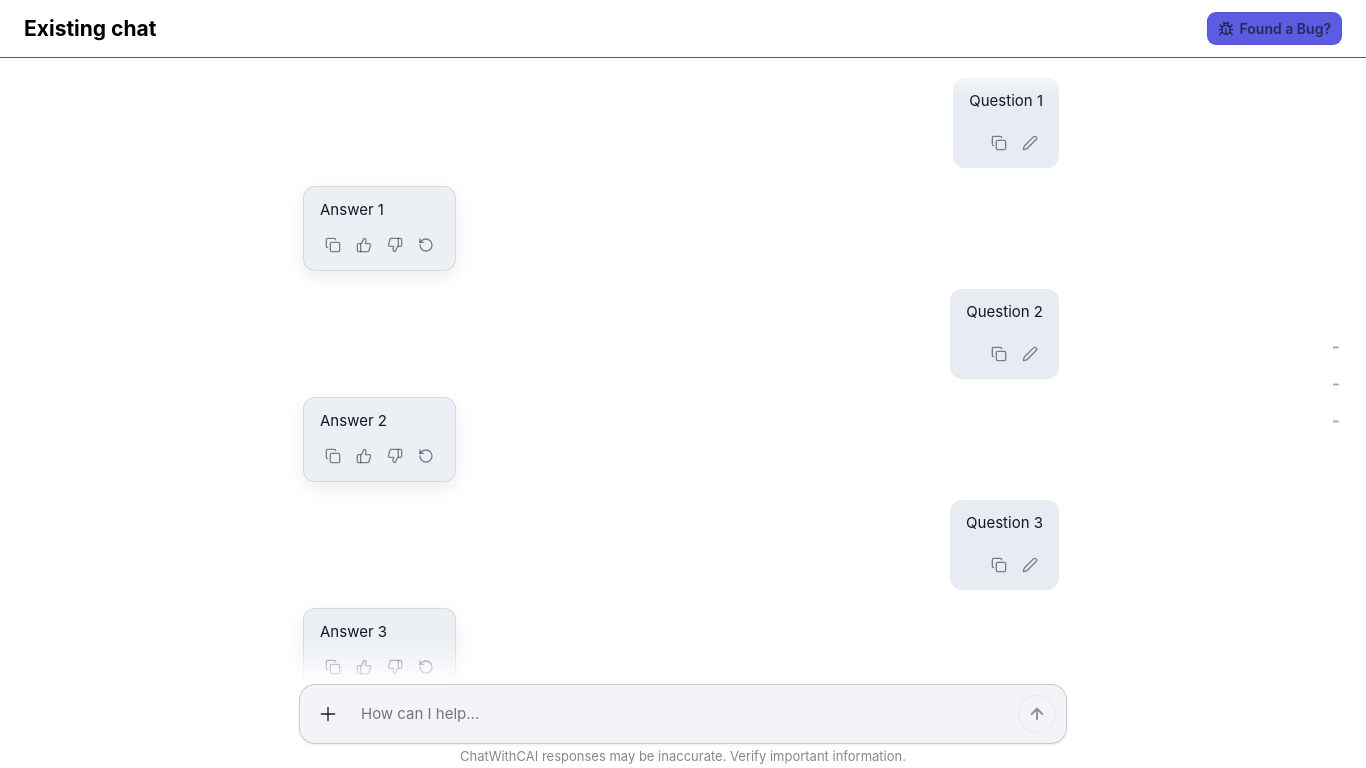
chat message sending › rewinds later turns when regenerating and continues from the regenerated reply
Expected: the text "Answer 3" is shown, [320, 622, 387, 640]
Click the button named "Try again..." below "Answer 2".
click(426, 456)  # box [413, 443, 439, 469]
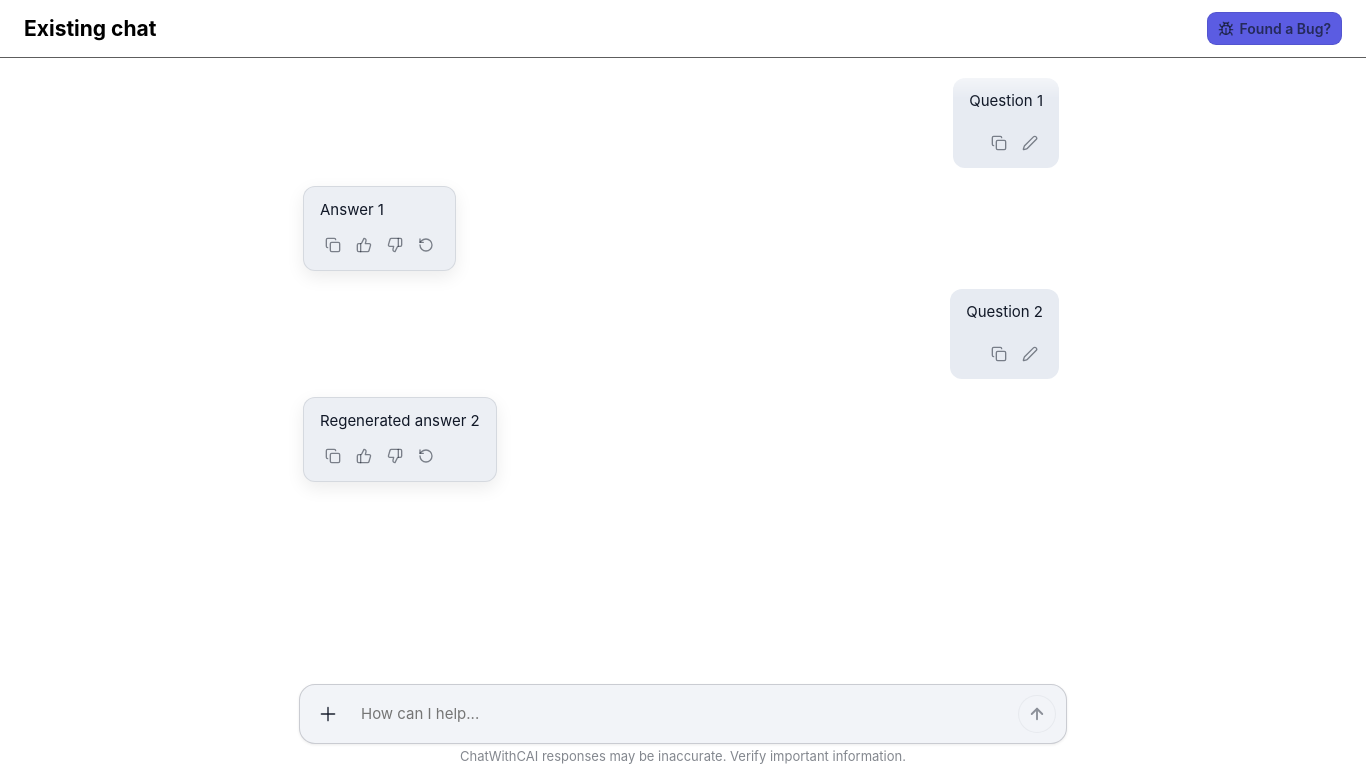
Expected: the text "Regenerated answer 2" is shown, [320, 410, 480, 432]
Expected: the text "Question 3" is gone
Expected: the text "Answer 3" is gone
Type "Follow-up after rewind" into the text box.
click(678, 714); type("Follow-up after rewind")  # box [355, 704, 1000, 724]
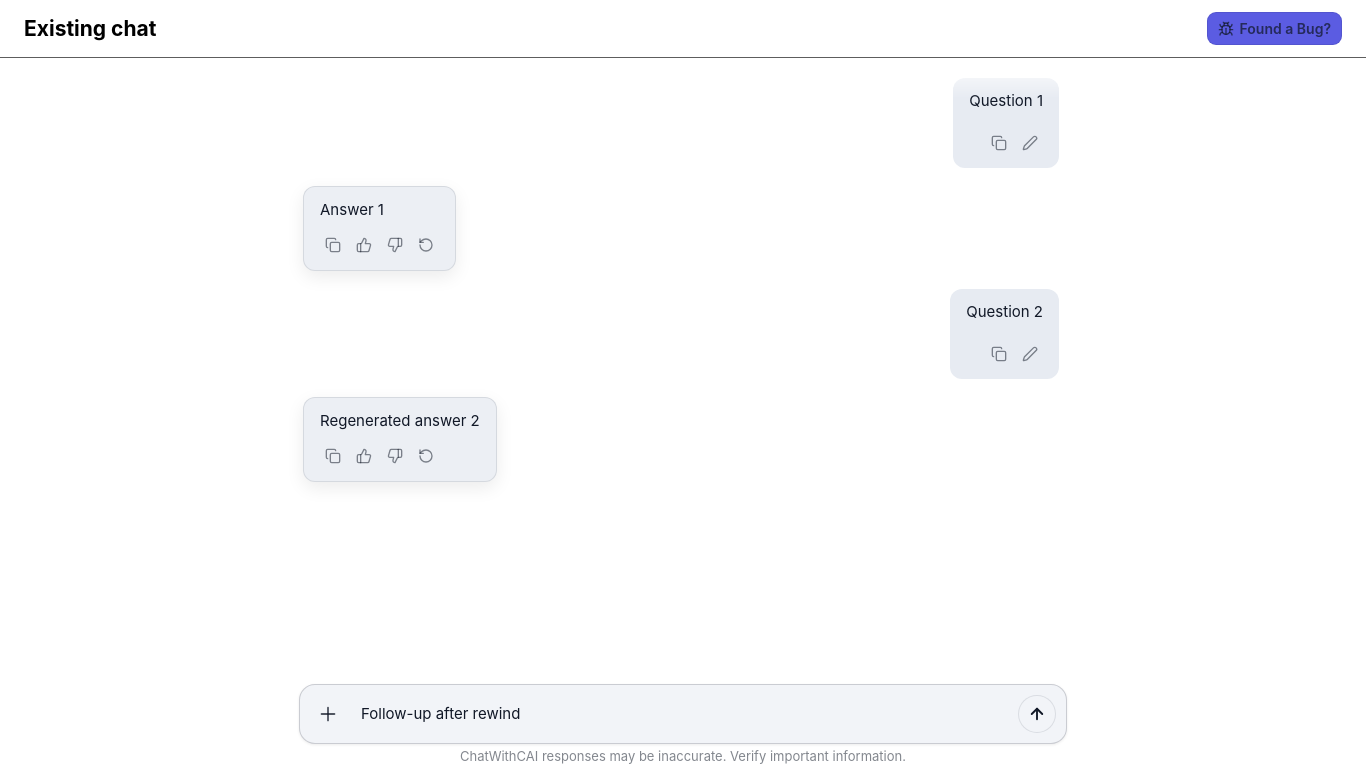
Click the button named "Send message".
click(1037, 714)  # box [1018, 695, 1056, 733]
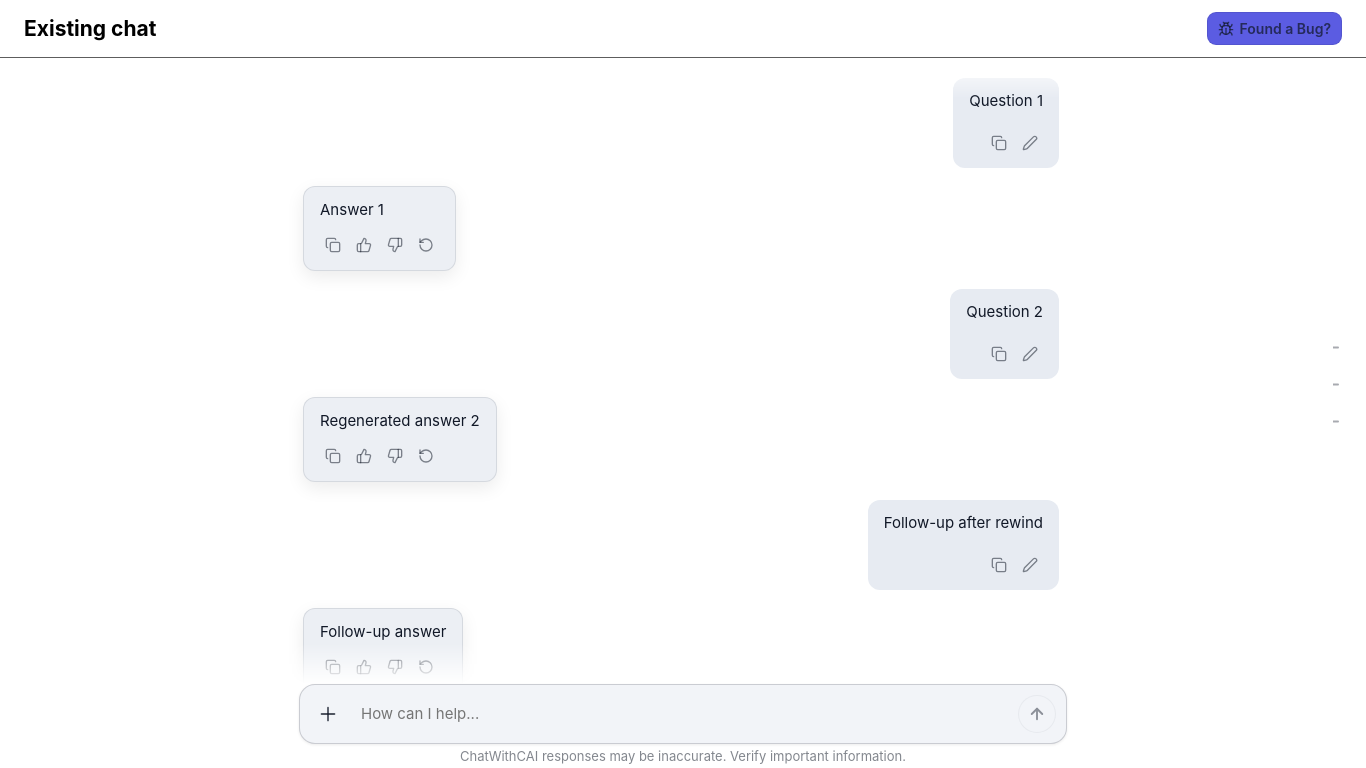
Expected: the text "Follow-up answer" is shown, [320, 620, 446, 643]
